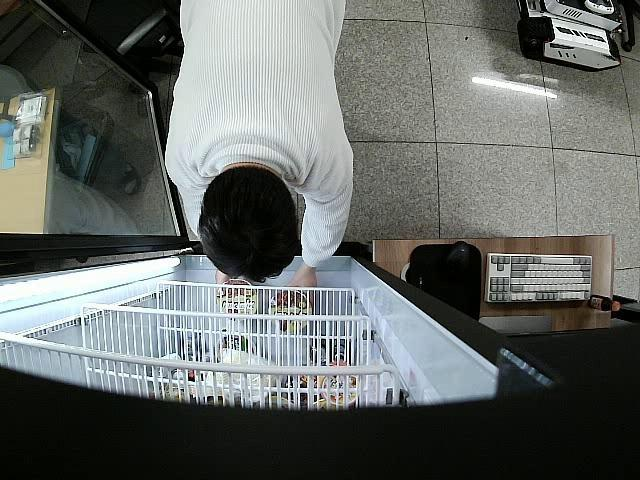03_chapagetti_L: (270, 290, 314, 331), (218, 281, 258, 317)
